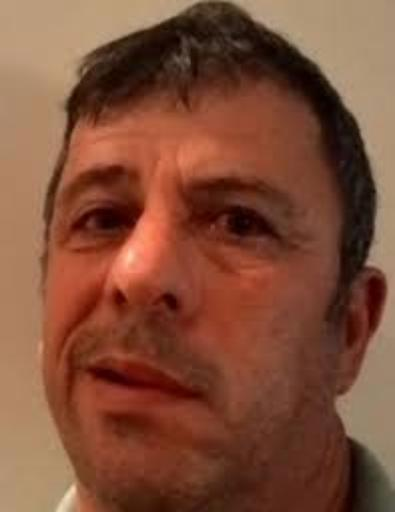left_eye: (194, 207, 278, 246)
left_lip_corner: (186, 382, 211, 410)
right_eye: (75, 206, 135, 238)
right_lip_corner: (78, 357, 107, 385)
